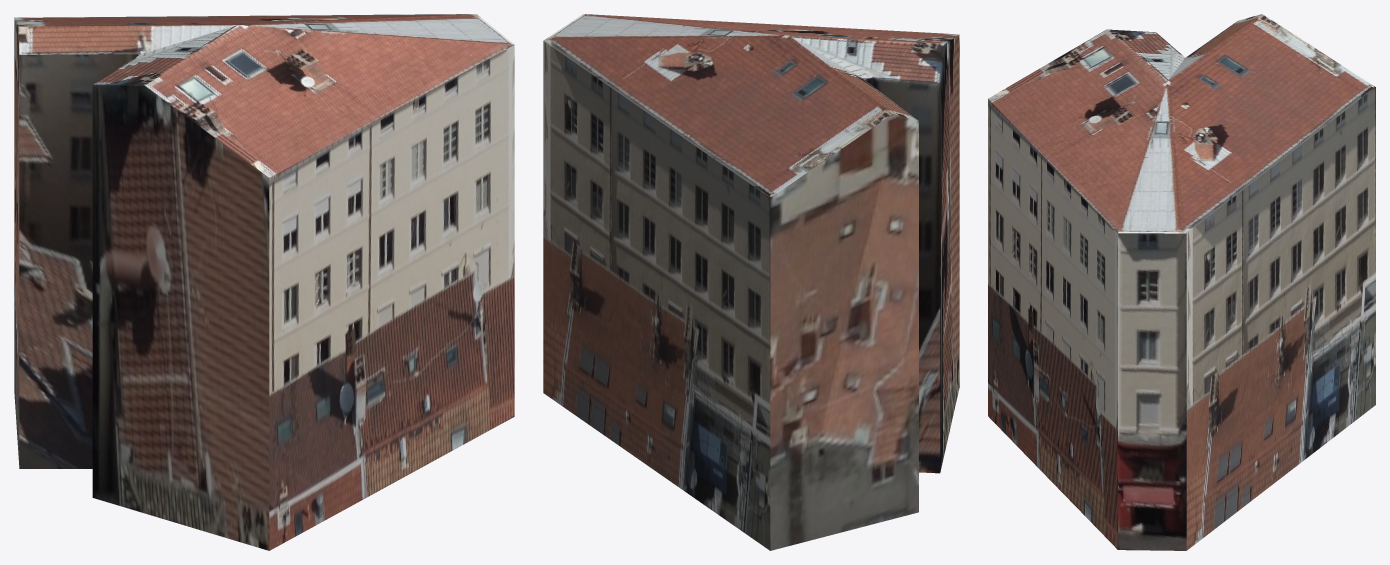
3 renders of one model, left to right at view 1: azimuth 30°, elevation 25°; view 2: azimuth 150°, elevation 25°; view 3: azimuth 270°, elevation 25°, orthographic. The views are drawn at different scales.
Visible parts, largest first — view 1: Z_UP; view 2: Z_UP; view 3: Z_UP.
Boxes of the visible parts, x1,y1,x2,y2 form: Z_UP: (14, 14, 514, 550); Z_UP: (543, 14, 959, 550); Z_UP: (988, 14, 1375, 550).
Size of the model in its own units: 24.54 by 23.63 by 22.65.
Materials: 2 (1 with a texture image).
